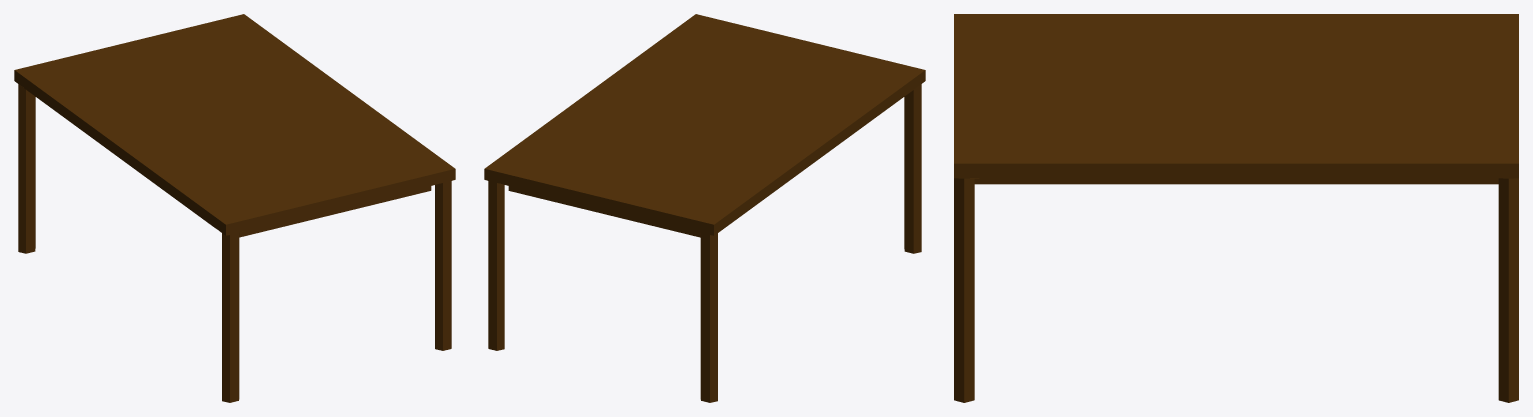
The model's file is new_table_room.fbx.
The picture shows the model from 3 angles, left to right: view 1: azimuth 30°, elevation 25°; view 2: azimuth 150°, elevation 25°; view 3: azimuth 270°, elevation 25°; orthographic projection. The views are drawn at different scales.
Visible parts, largest first — view 1: Cube; view 2: Cube; view 3: Cube.
Boxes of the visible parts, left/top/right/bottom form: Cube: left=14, top=14, right=455, bottom=402; Cube: left=484, top=14, right=925, bottom=402; Cube: left=954, top=14, right=1518, bottom=402.
Size of the model in its own units: 141 by 105 by 225.
